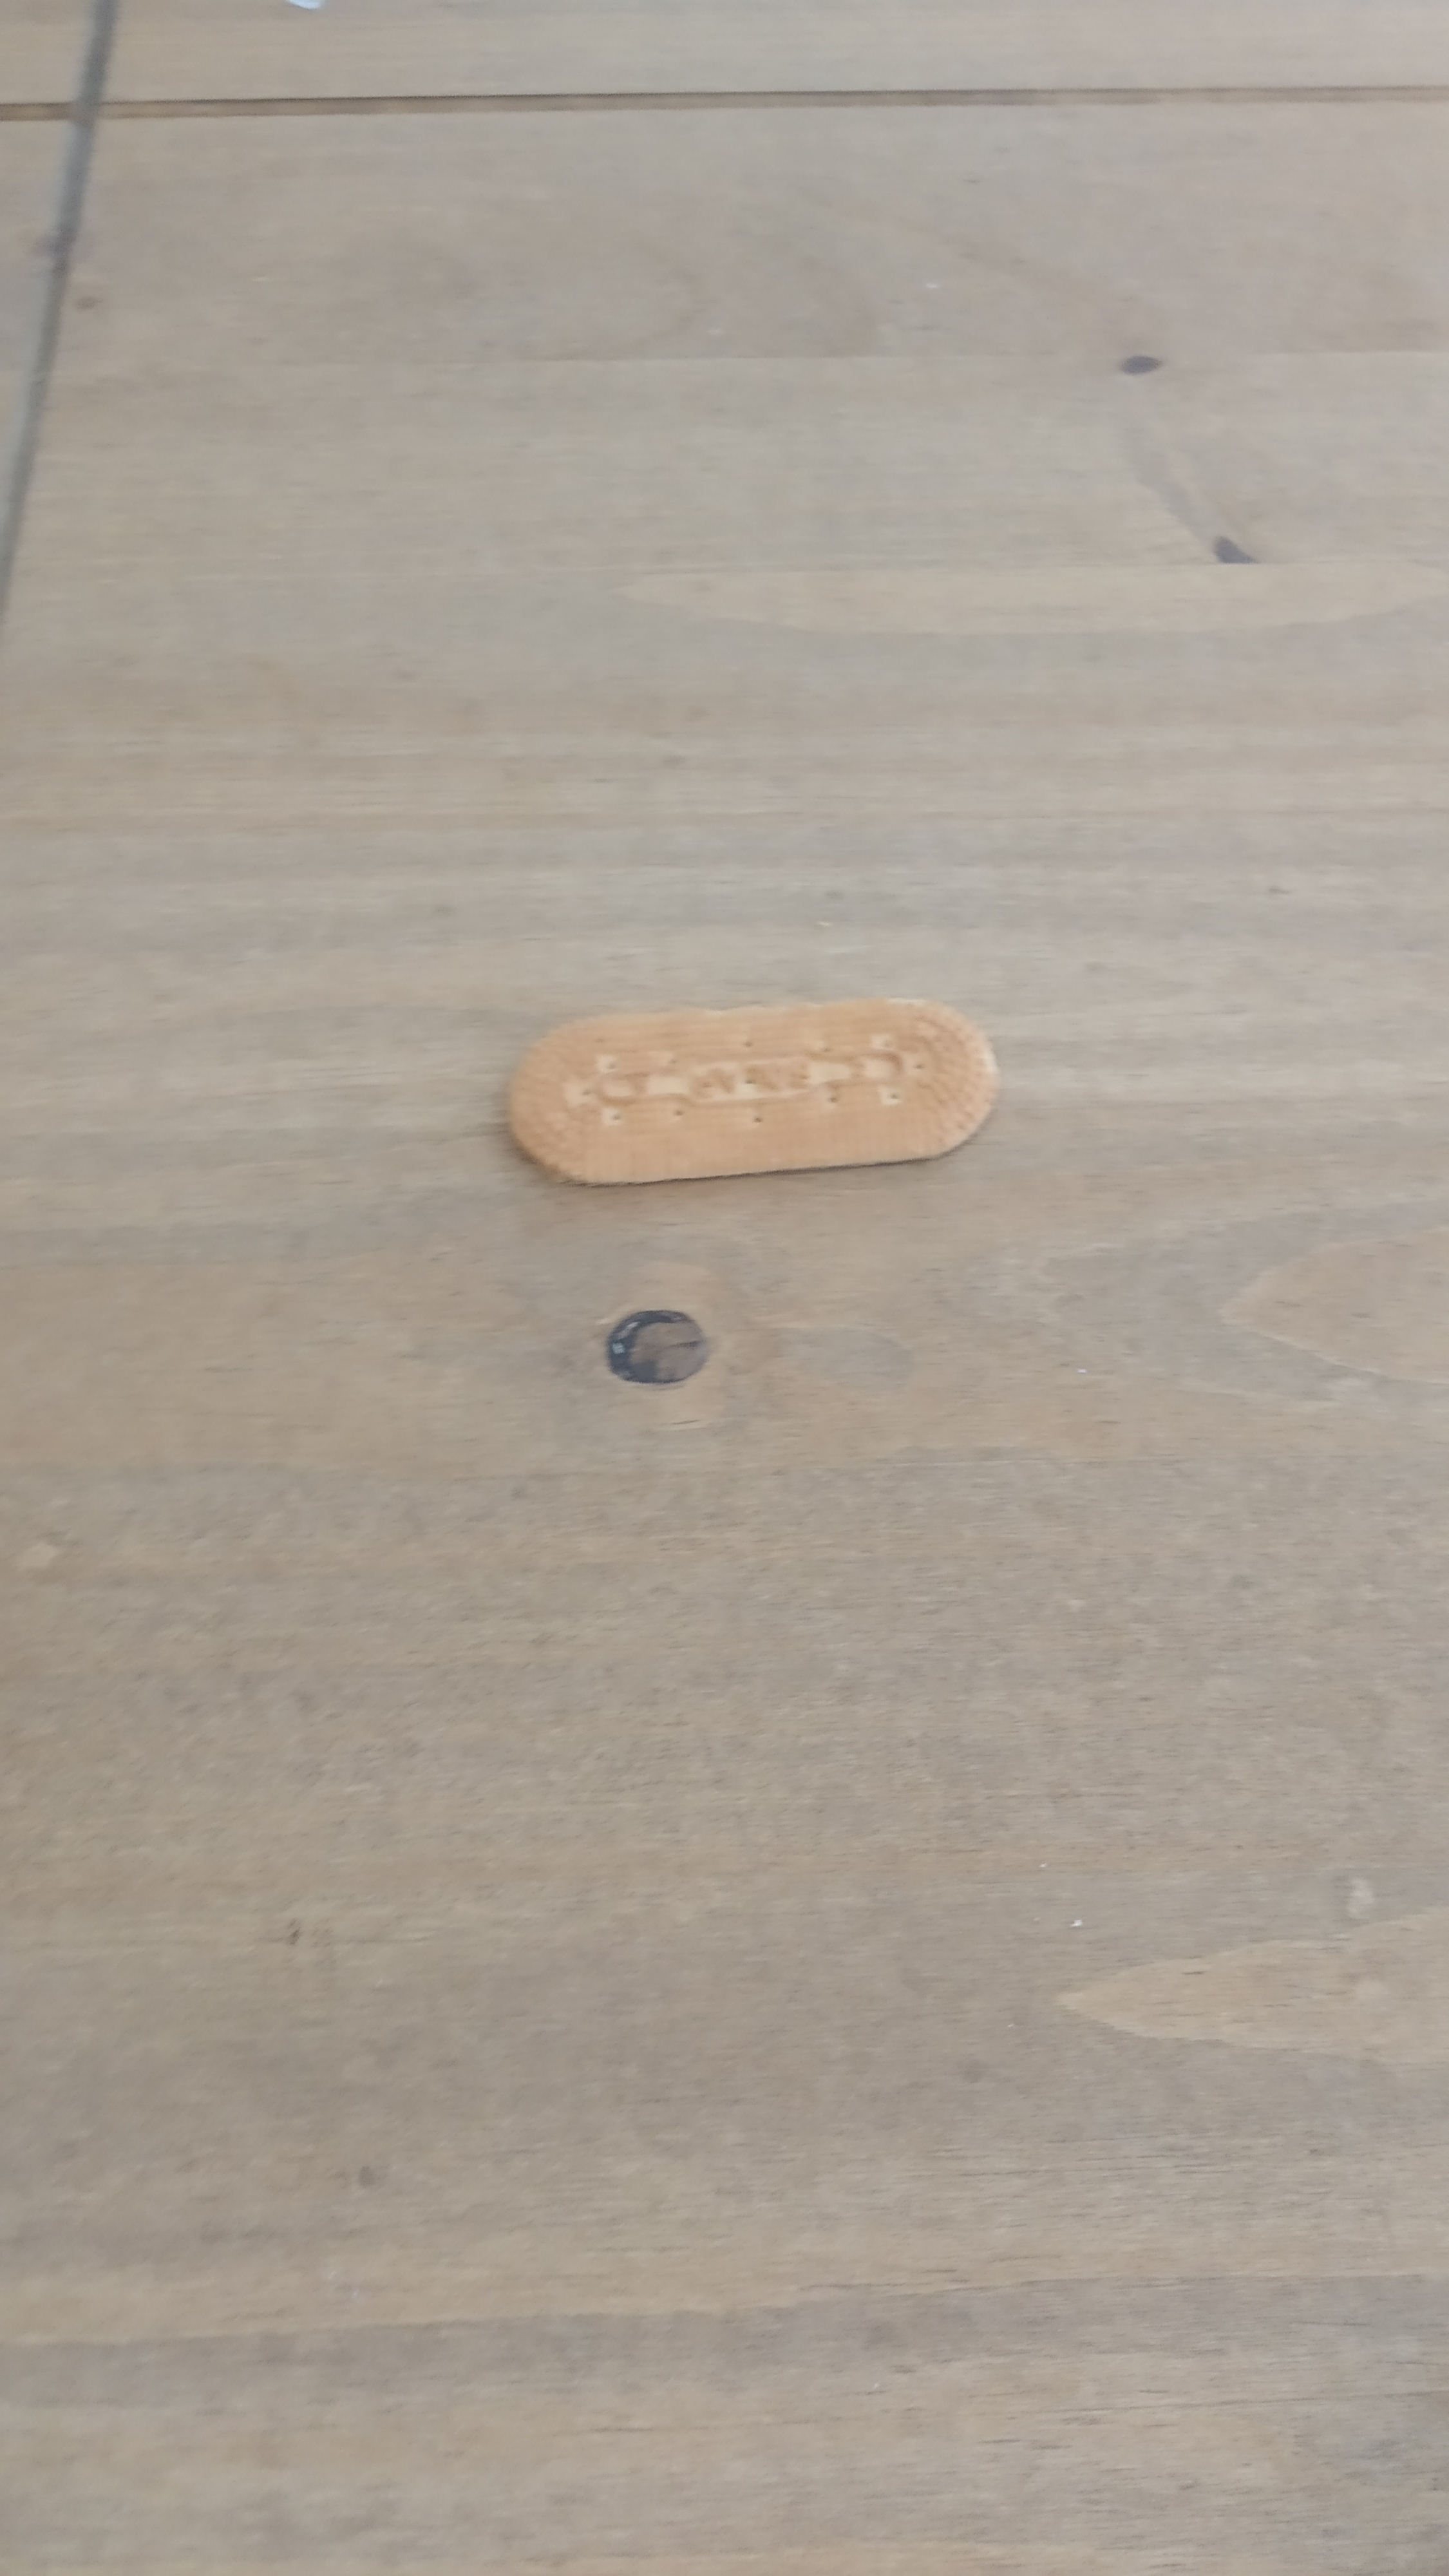solar: (508, 1000, 998, 1185)
